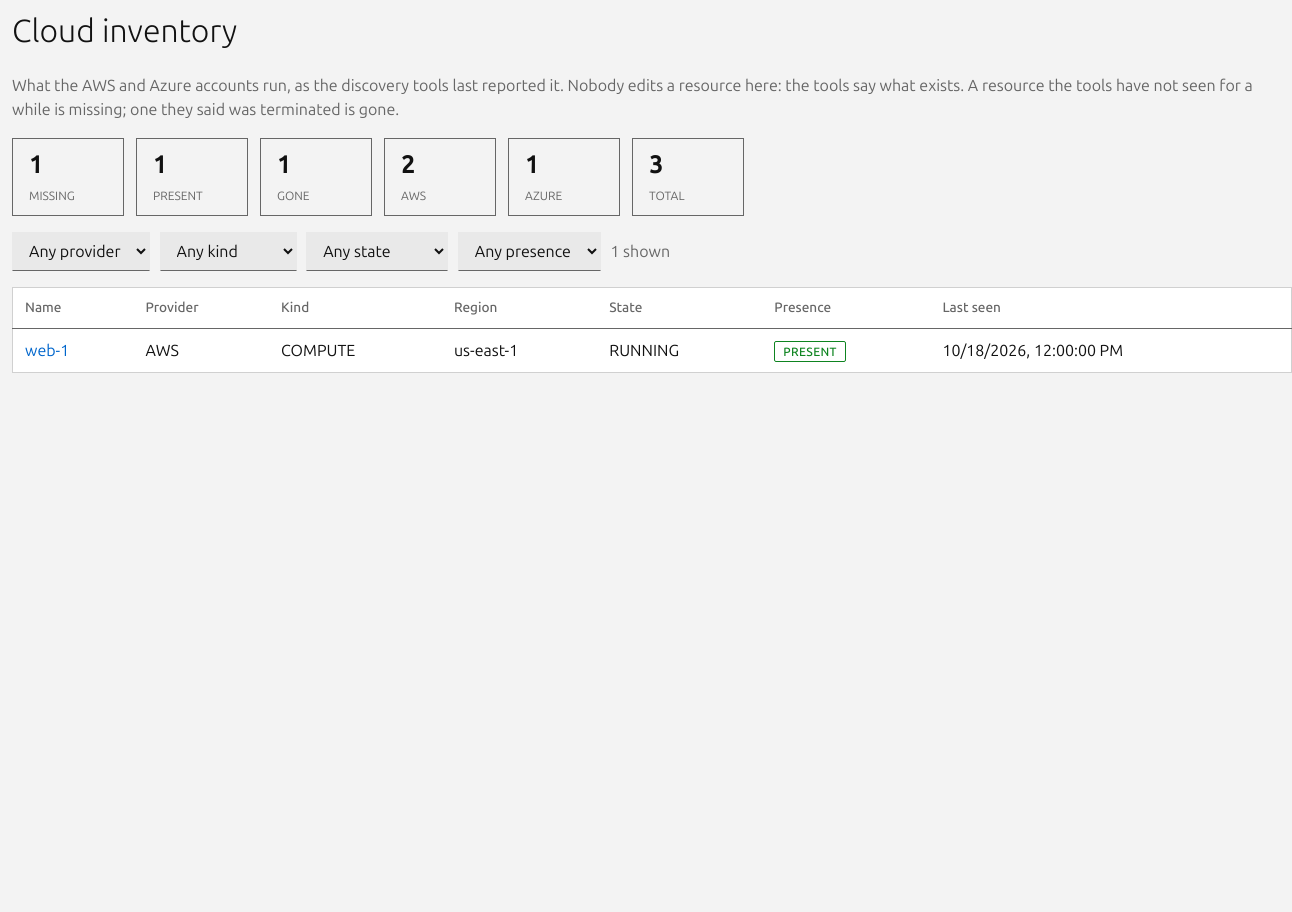
Test: one resource › says so when a resource has no tags, and shows the problem when it cannot be read
Click the button "web-1".
click(47, 351)  # box [25,339,69,363]
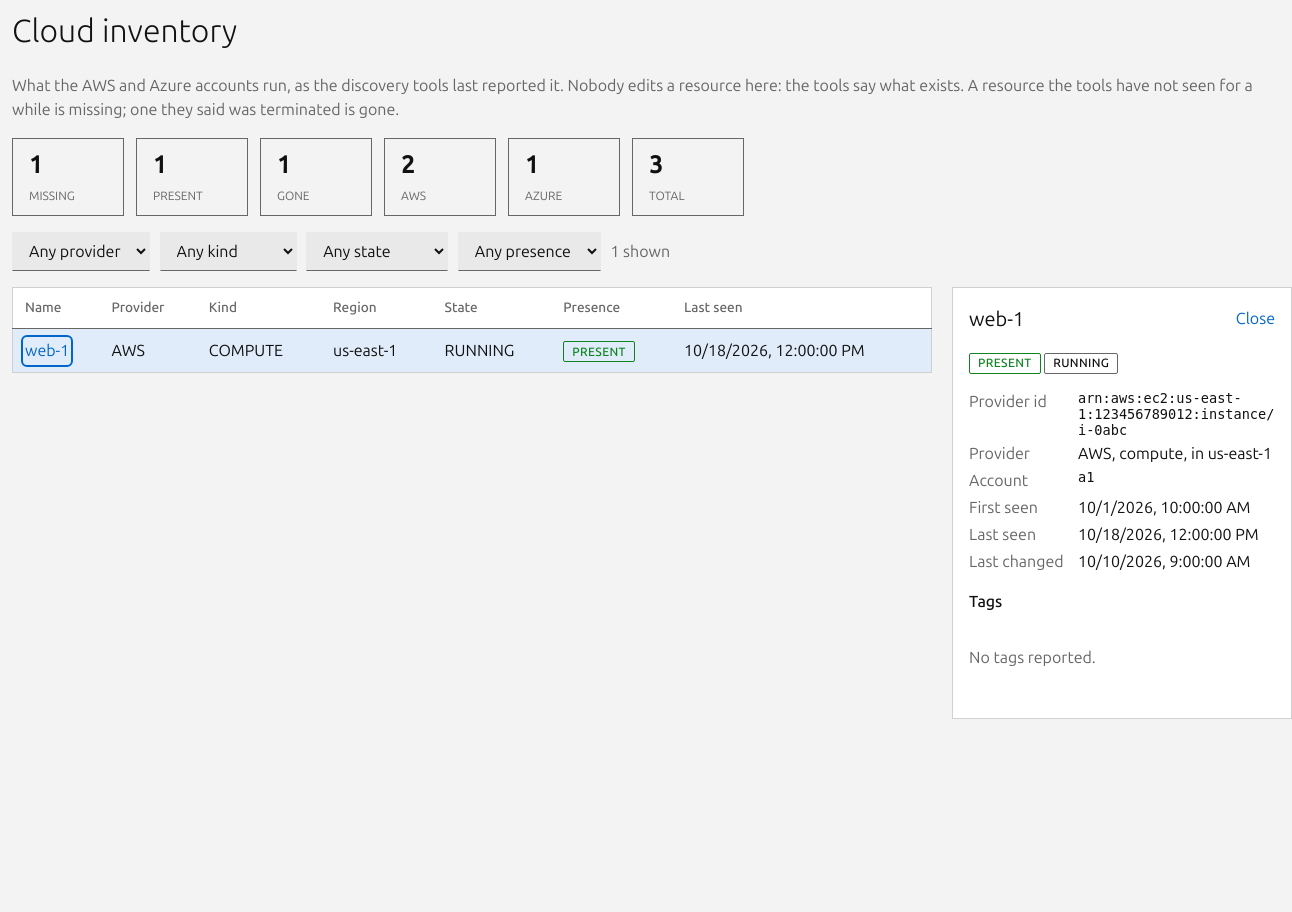
expect the text "No tags reported." is shown: met, box [969,648,1096,667]
